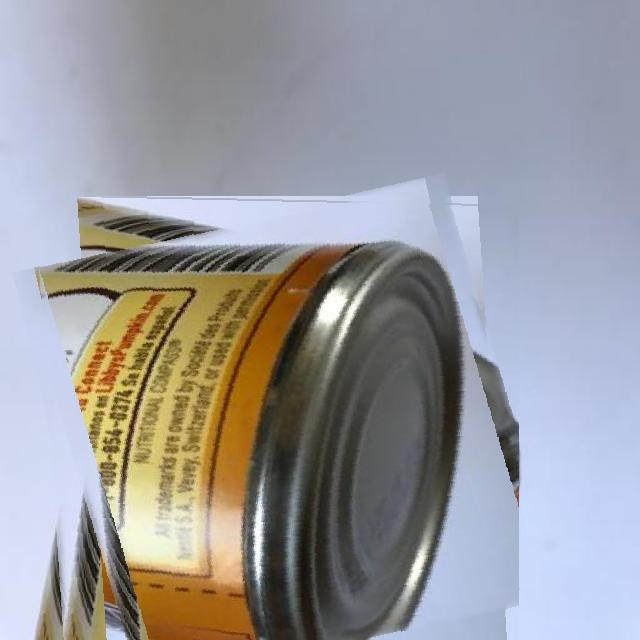recyclable: (34, 194, 519, 640)
